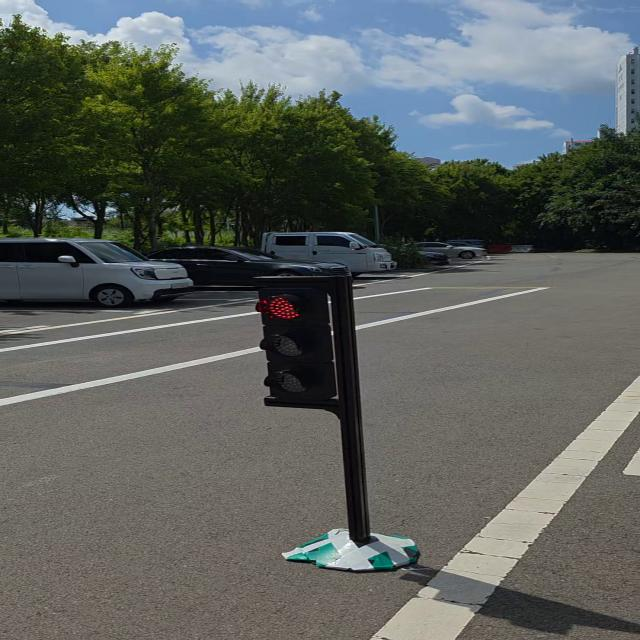red: (255, 277, 346, 403)
